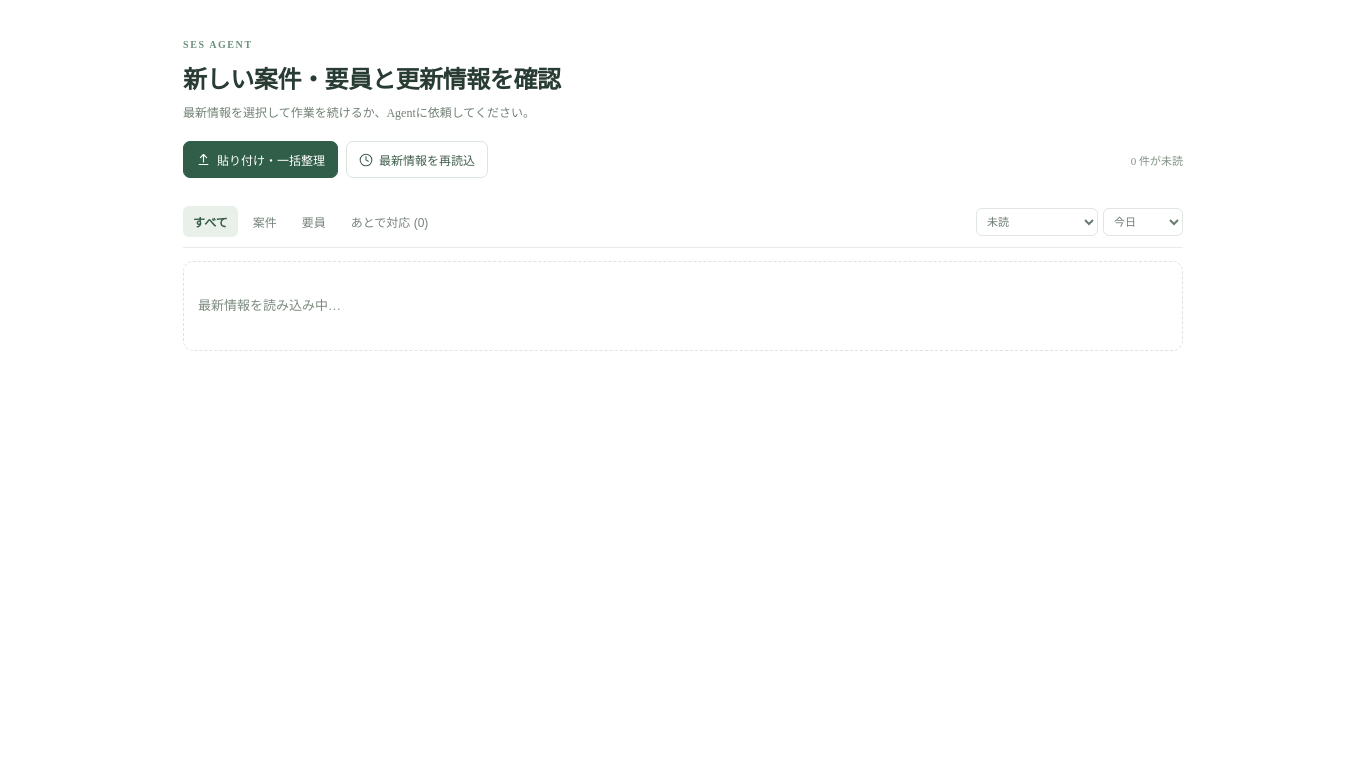
it: latest business information › keeps chronological positions and selection after 詳細を見る marks a case seen
Select "すべての閲覧状態" in the dropdown named "閲覧状態" at coordinates (1037, 222), box left=976, top=208, right=1098, bottom=236
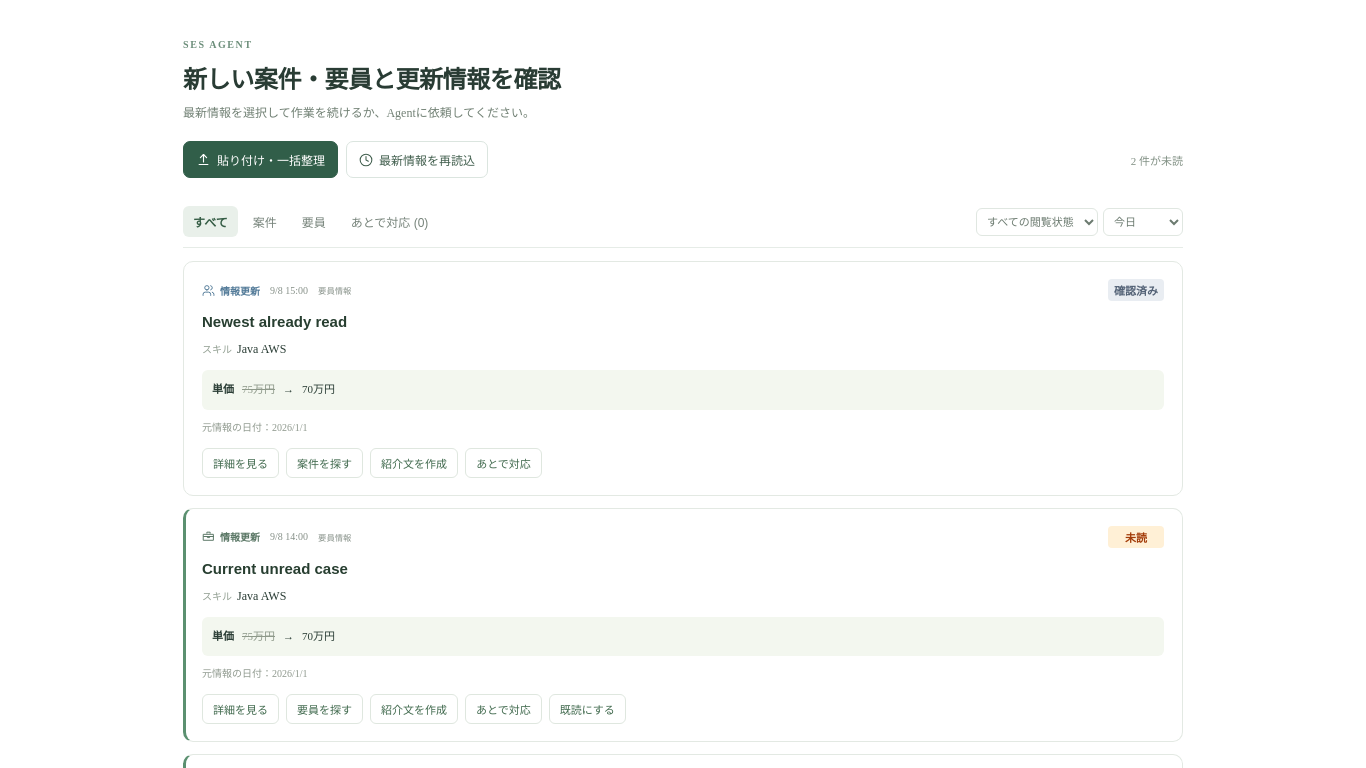
Click the button "詳細を見る" below "9/8 14:00".
click(240, 709)  # box left=202, top=694, right=279, bottom=724
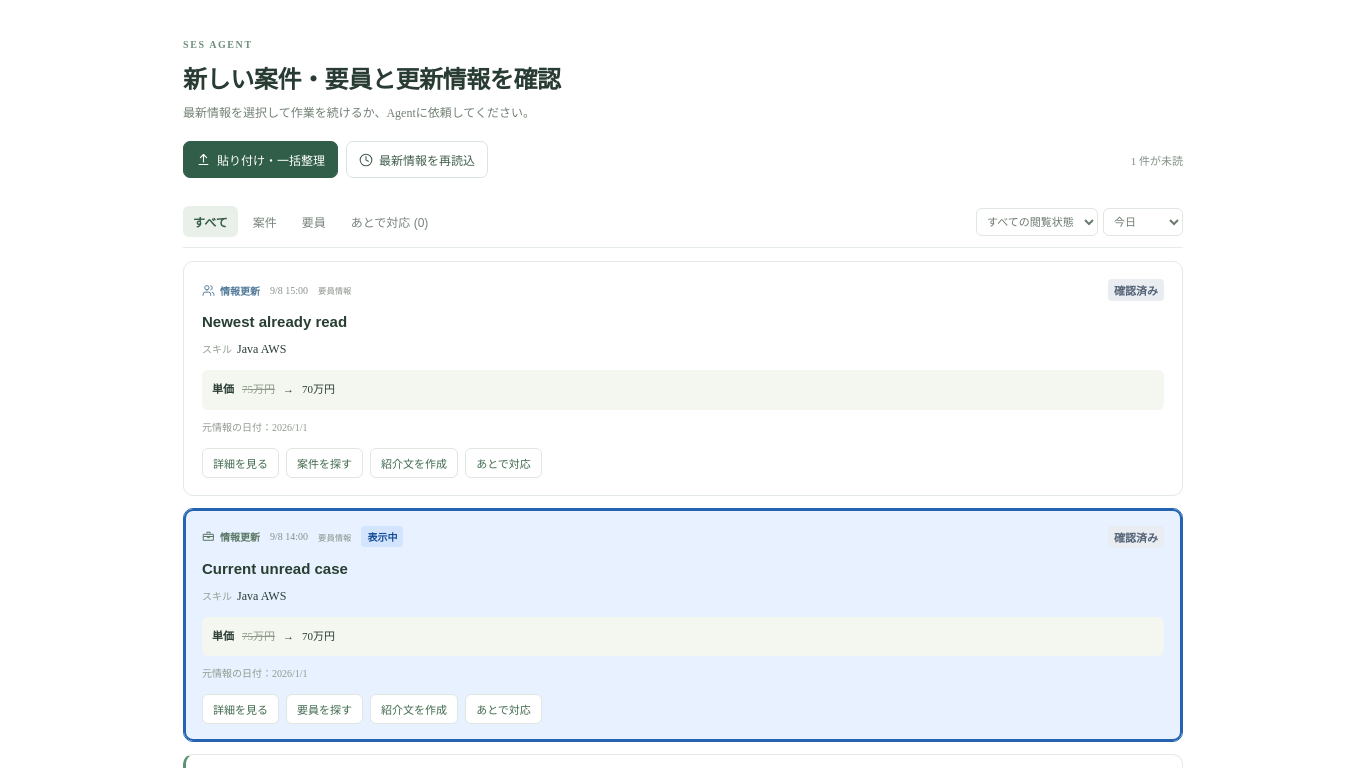
Now the text "確認済み" in the row of "表示中" is shown, box left=1114, top=532, right=1158, bottom=544
Now the text "1 件が未読" is shown, box left=1131, top=152, right=1183, bottom=168
